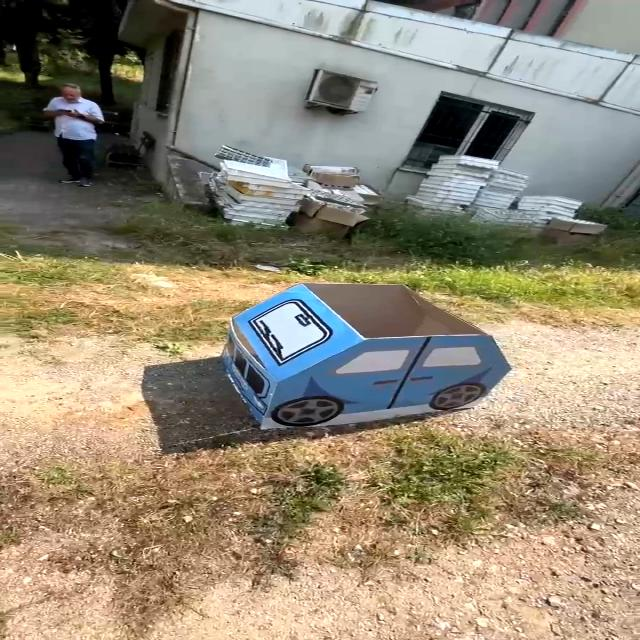blue_car: (171, 271, 516, 460)
